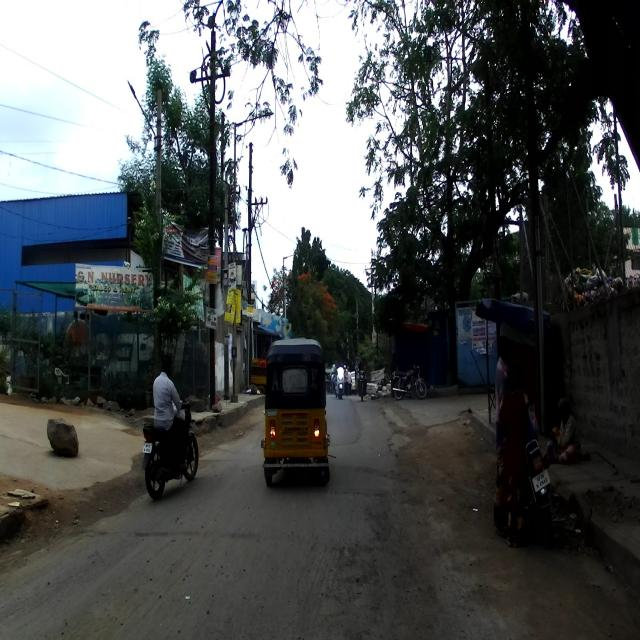autorickshaw: (260, 338, 336, 488)
motorcycle: (141, 400, 198, 500), (521, 436, 559, 547)
